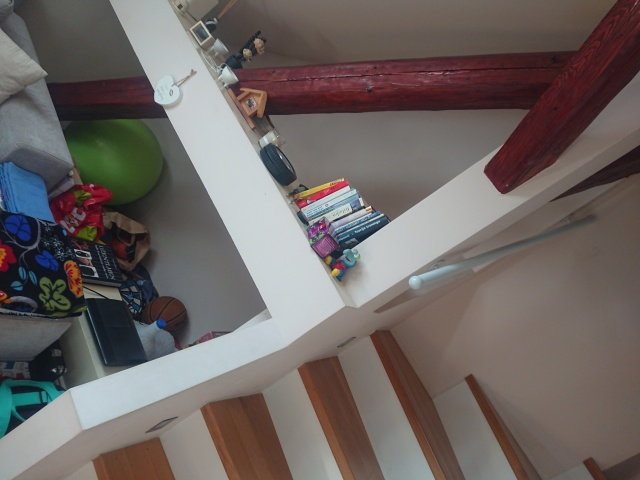Franck Black Currant Tea 60g: (306, 214, 341, 260)
